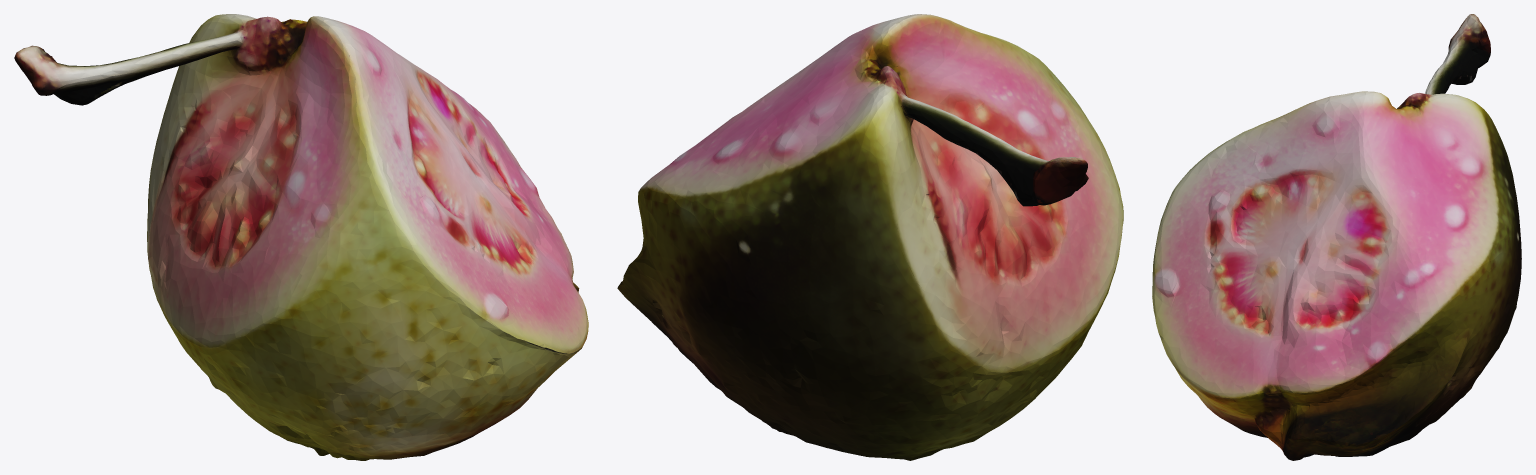
3 renders of one model, left to right at view 1: azimuth 30°, elevation 25°; view 2: azimuth 150°, elevation 25°; view 3: azimuth 270°, elevation 25°, orthographic. The views are drawn at different scales.
Parts seen in each view (by area): view 1: world; view 2: world; view 3: world.
Boxes of the visible parts, x1,y1,x2,y2 form: world: [14, 14, 588, 460]; world: [617, 14, 1123, 460]; world: [1152, 14, 1521, 460].
Size of the model in its own units: 0.5549 by 0.4459 by 0.4474.
1 material, 1 textured.
